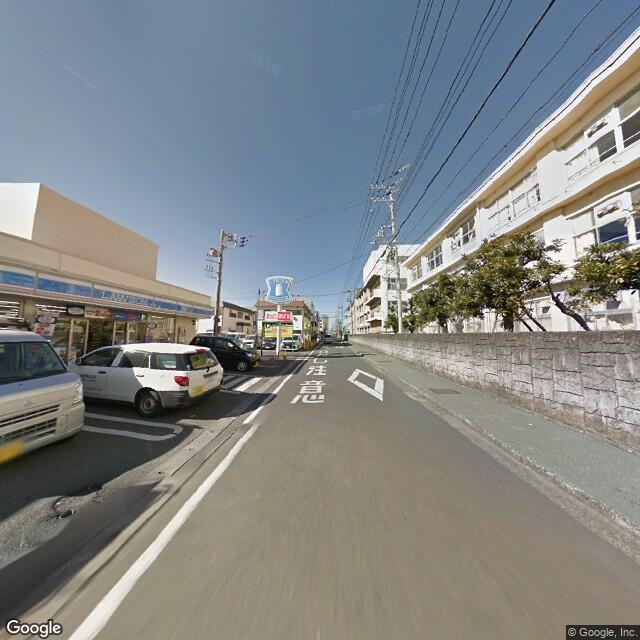lawson: (1, 258, 211, 320), (264, 272, 293, 304)
